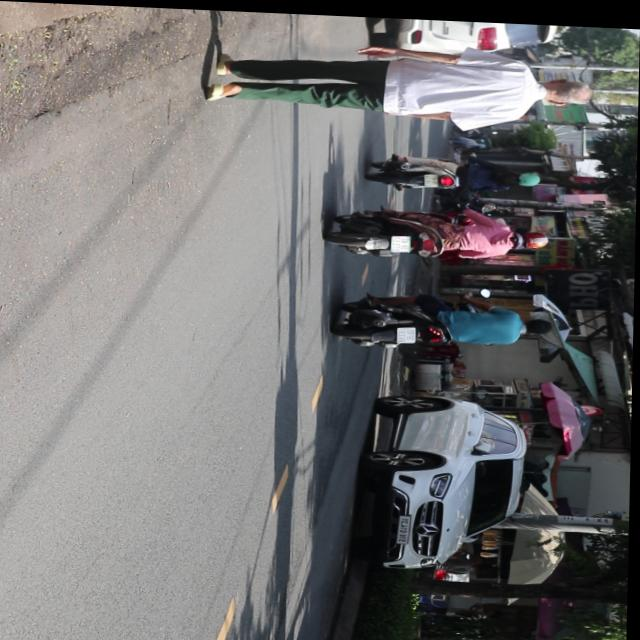helmet: (514, 225, 551, 246)
licenseplate: (334, 285, 558, 351), (328, 199, 553, 262)
motorcyclist: (524, 313, 556, 332)
nohelmet: (392, 231, 413, 248), (398, 322, 417, 339)
